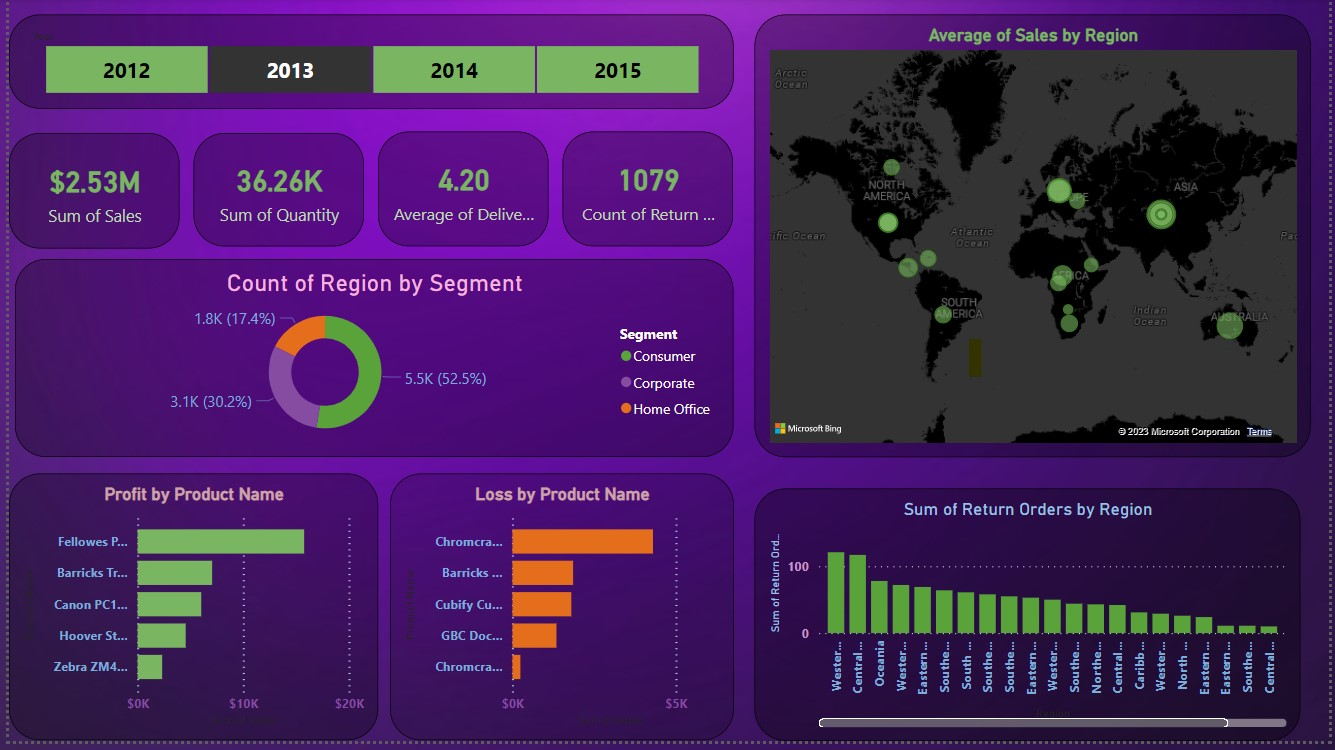

What the dashboard file says about the page in this screenshot:
{"tool":"powerbi","page":{"name":"Page 1","canvas":[1280,720],"ordinal":0},"visuals":[{"type":"card","fields":{"Values":["Sum(Orders.Sales)"]},"box":[0,130.9,165,112],"z":0},{"type":"card","fields":{"Values":["Sum(Orders.Quantity)"]},"box":[179,131.1,165,110],"z":1000},{"type":"card","fields":{"Values":["Avg(Orders.Delivery Date)"]},"box":[358.1,129.4,165,111.6],"z":2000},{"type":"slicer","fields":{"Values":["Orders.Year"]},"box":[0,16,702.5,91.6],"z":3000},{"type":"card","fields":{"Values":["CountNonNull(Returns.Return Orders)"]},"box":[537.2,129.4,165,111.6],"z":4000},{"type":"map","fields":{"Category":["Orders.Region"],"Size":["Avg(Orders.Sales)"]},"box":[722.9,16,539.6,429.1],"z":5000},{"type":"barChart","title":"Loss by Product Name","fields":{"Y":["Sum(Orders.Sales)"],"Category":["Orders.Product Name"]},"box":[369.5,461.1,333.1,258.9],"z":6000},{"type":"barChart","title":"Profit by Product Name","fields":{"Y":["Sum(Orders.Sales)"],"Category":["Orders.Product Name"]},"box":[0,461.1,357.8,258.9],"z":7000},{"type":"columnChart","fields":{"Category":["Returns.Region"],"Y":["Sum(Returns.Return Orders)"]},"box":[722.9,475.6,529.5,244.4],"z":8000},{"type":"donutChart","fields":{"Category":["Orders.Segment"],"Y":["CountNonNull(Orders.Region)"]},"box":[5.8,253.1,696.7,192],"z":9000}]}

Visuals, with their boxes in screenshot pixels (x1, y1, x2, y2), scaled from the page's 1280x720 canvas onto the 1335x750 screenshot:
card - Sum(Orders.Sales): Rect(0, 136, 172, 253)
card - Sum(Orders.Quantity): Rect(187, 137, 359, 251)
card - Avg(Orders.Delivery Date): Rect(373, 135, 546, 251)
slicer - Orders.Year: Rect(0, 17, 733, 112)
card - CountNonNull(Returns.Return Orders): Rect(560, 135, 732, 251)
map - Orders.Region x Avg(Orders.Sales): Rect(754, 17, 1317, 464)
"Loss by Product Name" barChart: Rect(385, 480, 733, 749)
"Profit by Product Name" barChart: Rect(0, 480, 373, 749)
columnChart - Returns.Region x Sum(Returns.Return Orders): Rect(754, 495, 1306, 749)
donutChart - Orders.Segment x CountNonNull(Orders.Region): Rect(6, 264, 733, 464)
